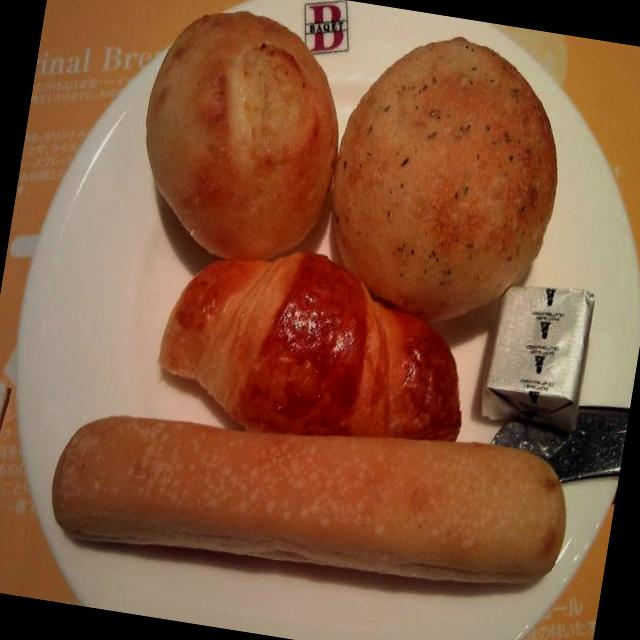Croissant: (143, 222, 490, 458)
